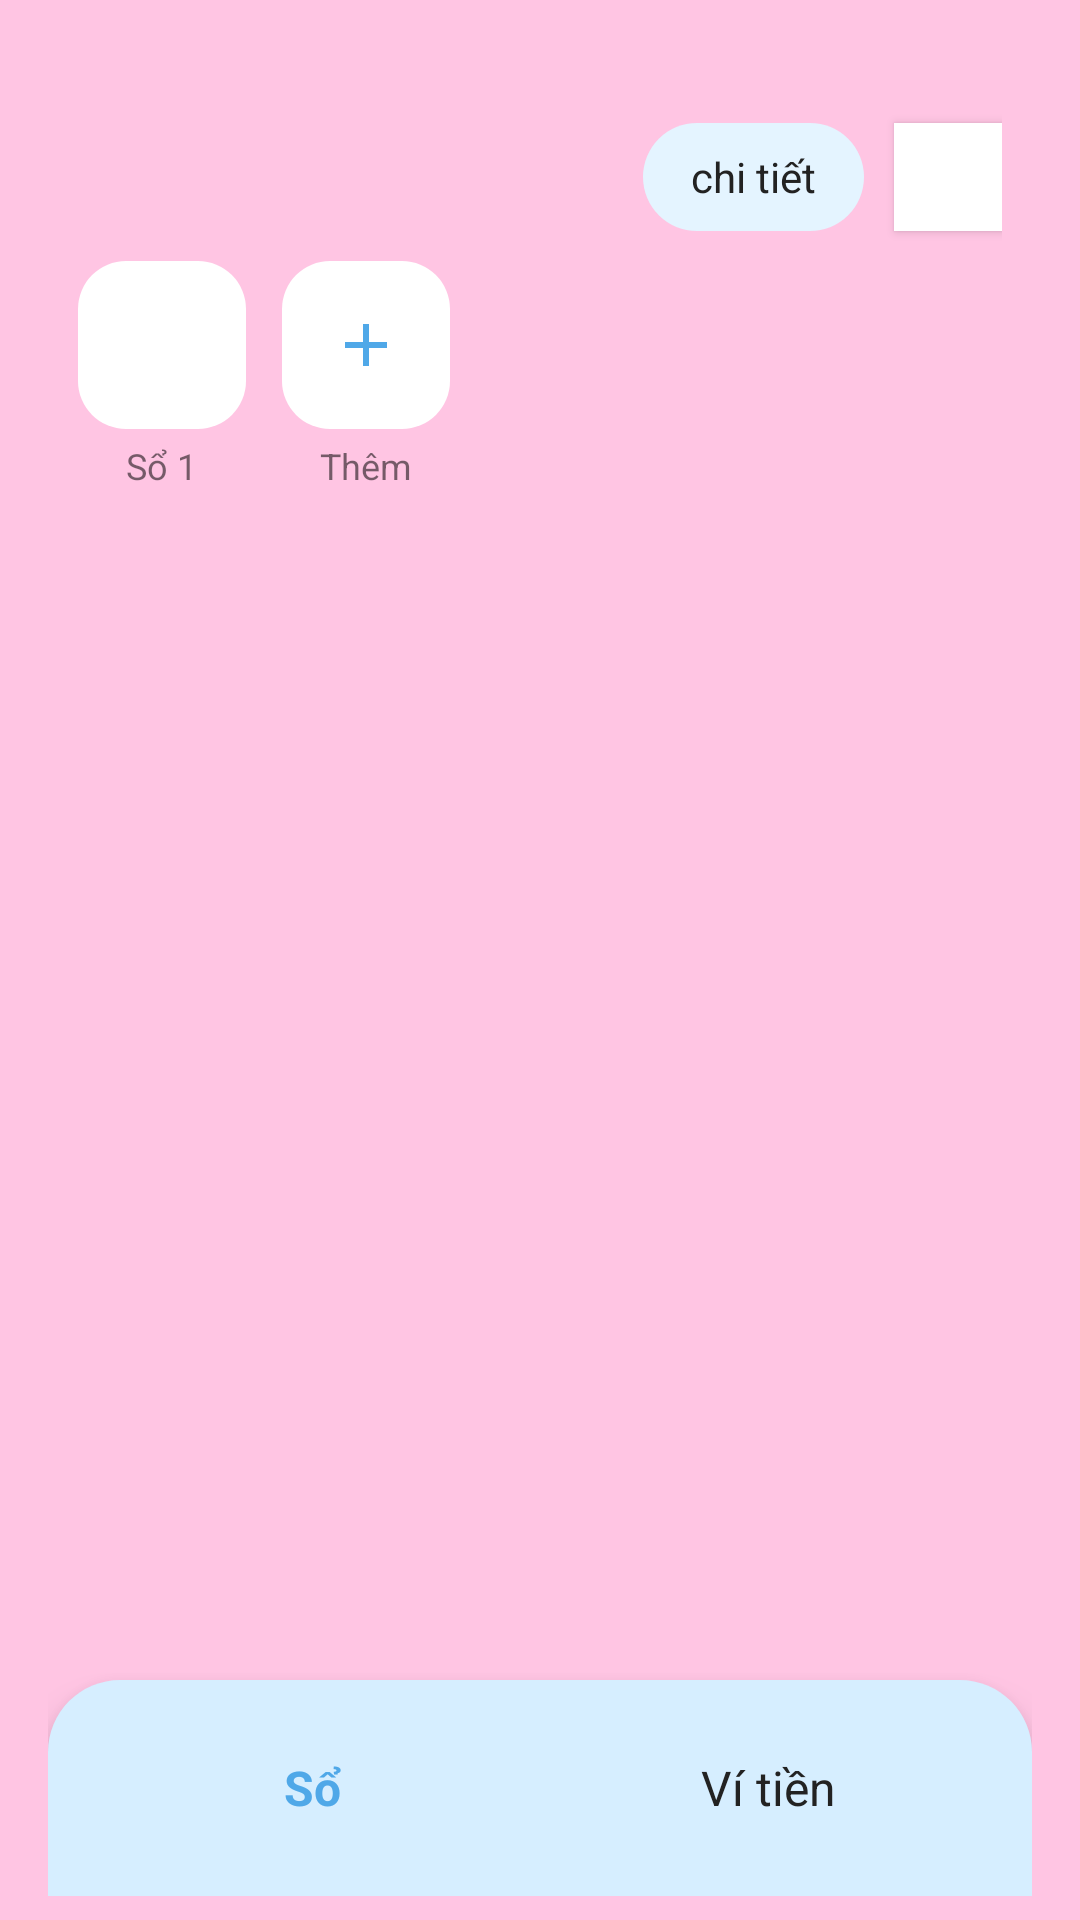

Locate icon controls on the screen. Image size 1080px×1920px, boxes as (x1, y1, x2, y2).
add: (345, 324, 387, 366)
